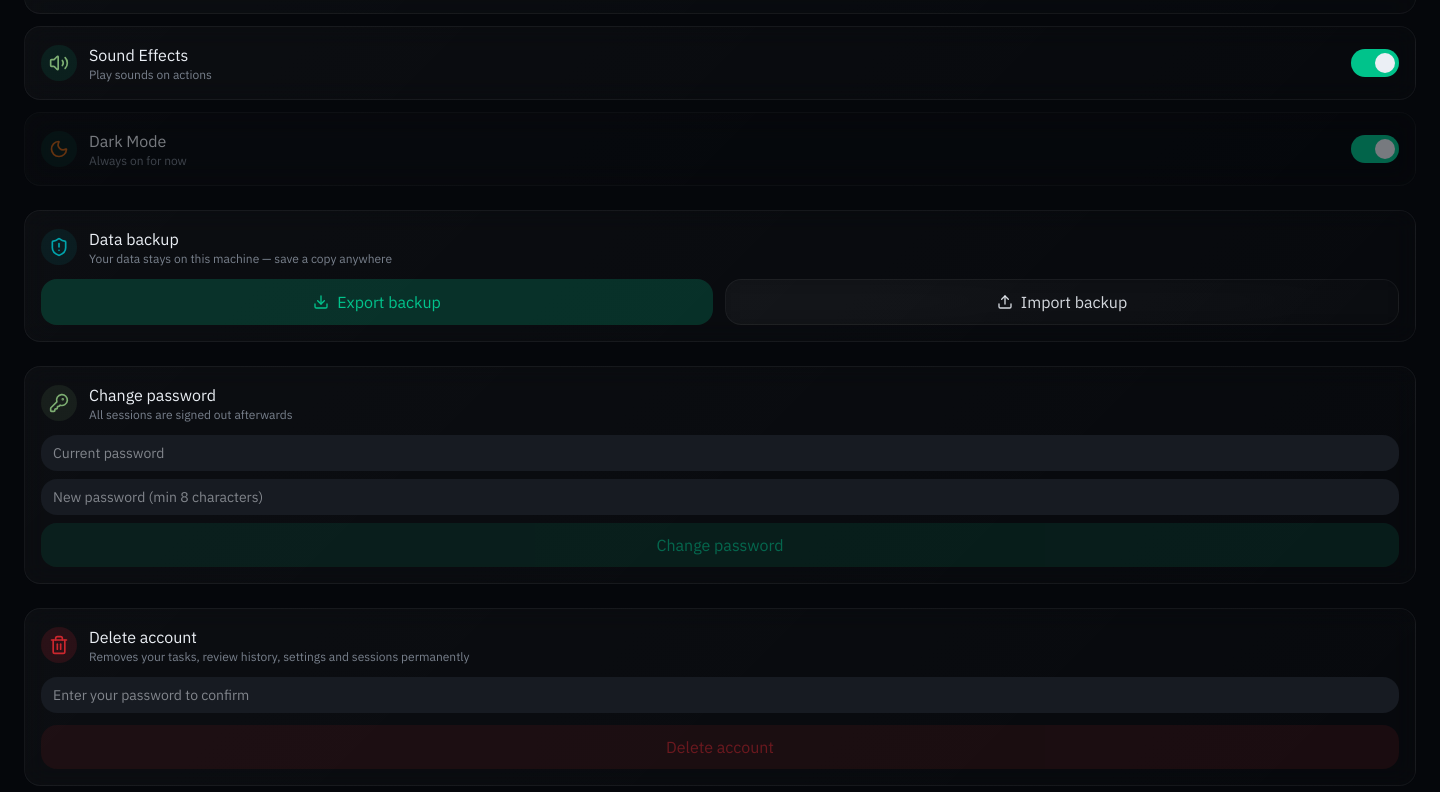
SettingsPanel › rejects too-short new passwords without calling the API
(page scrolled)
Type "old-password" into the password field with placeholder "Current password" at (720, 453), box [41, 435, 1399, 471]
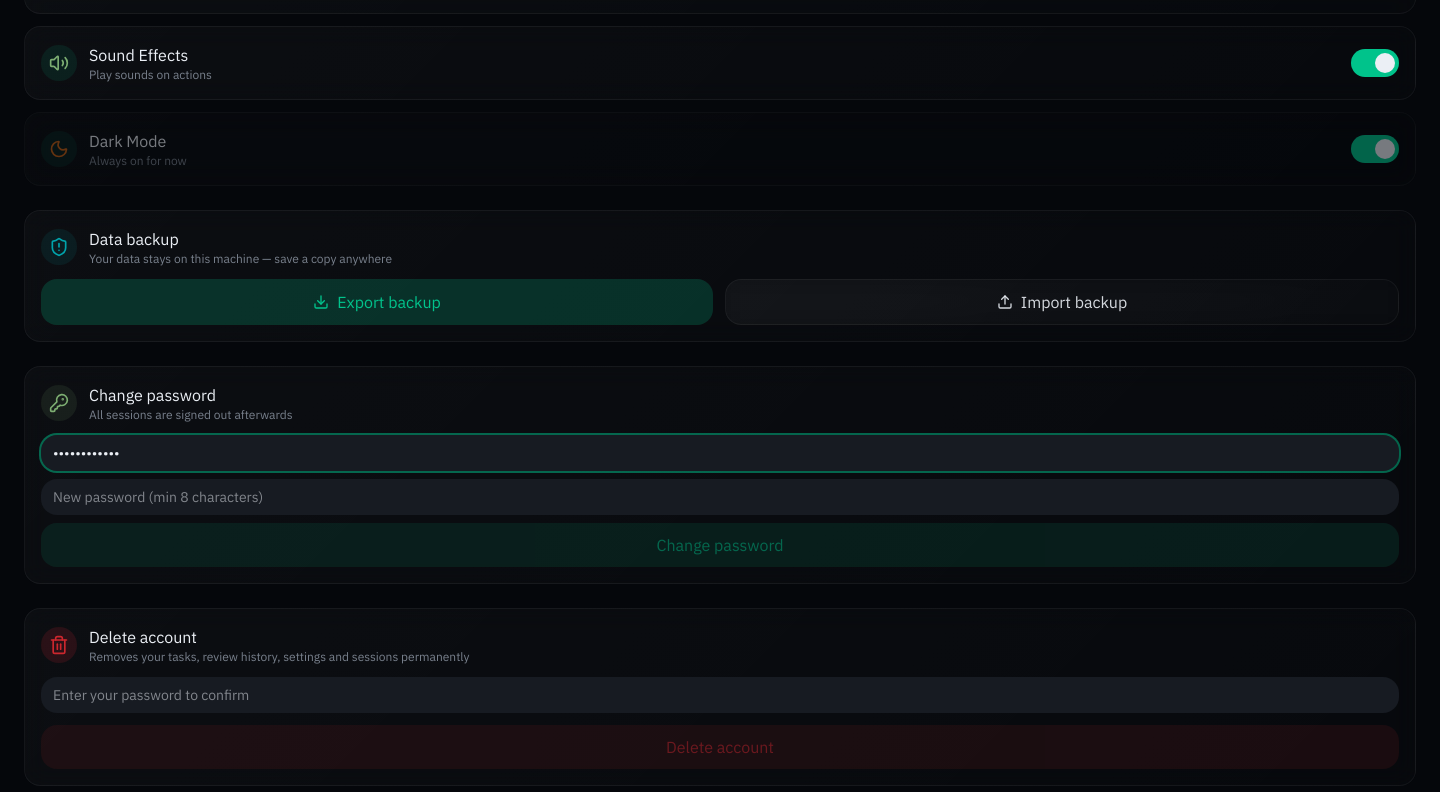
Type "short" into the password field with placeholder "New password (min 8 characters)" at (720, 497), box [41, 479, 1399, 515]
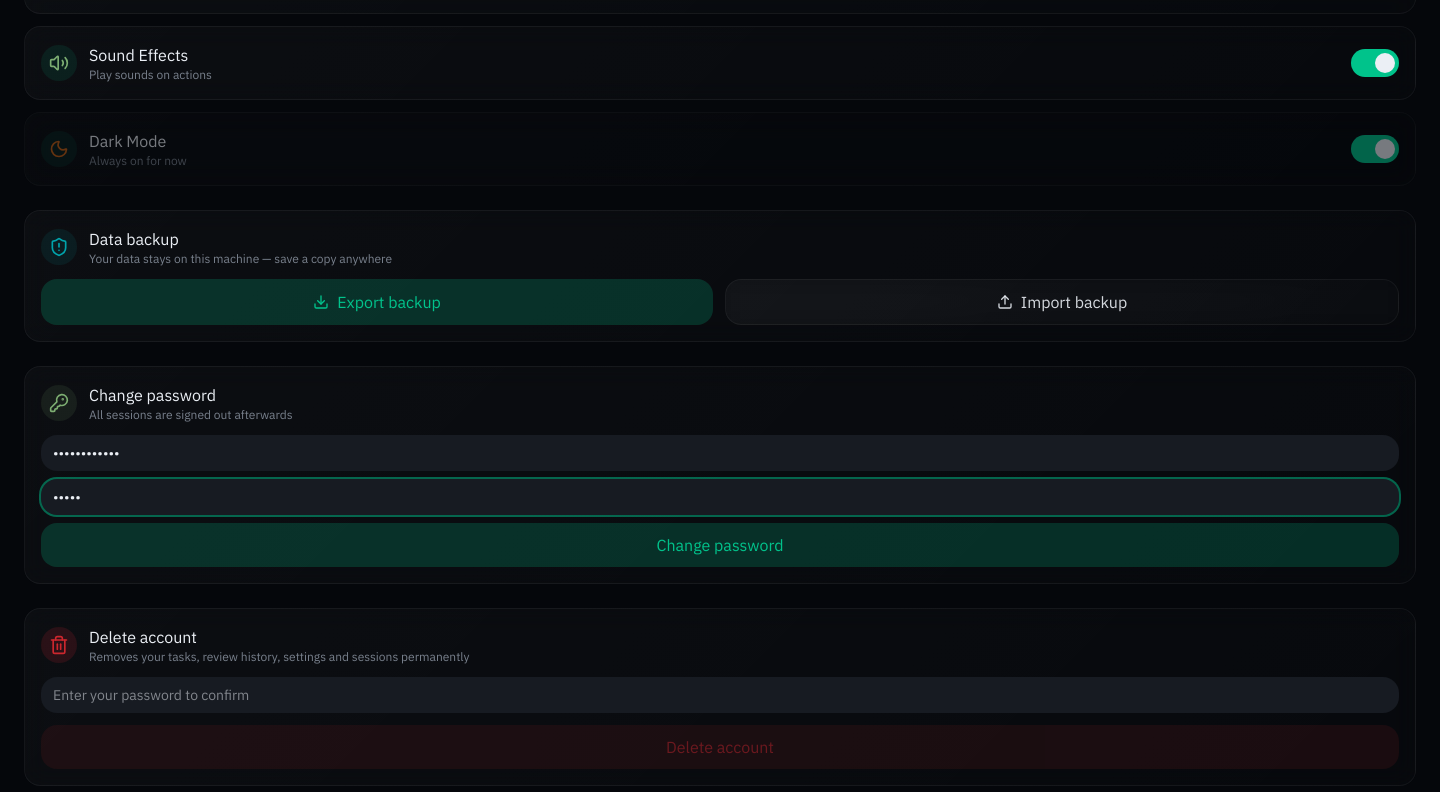
Click the button "Change password" at (720, 545), box [41, 523, 1399, 567]
(page scrolled)
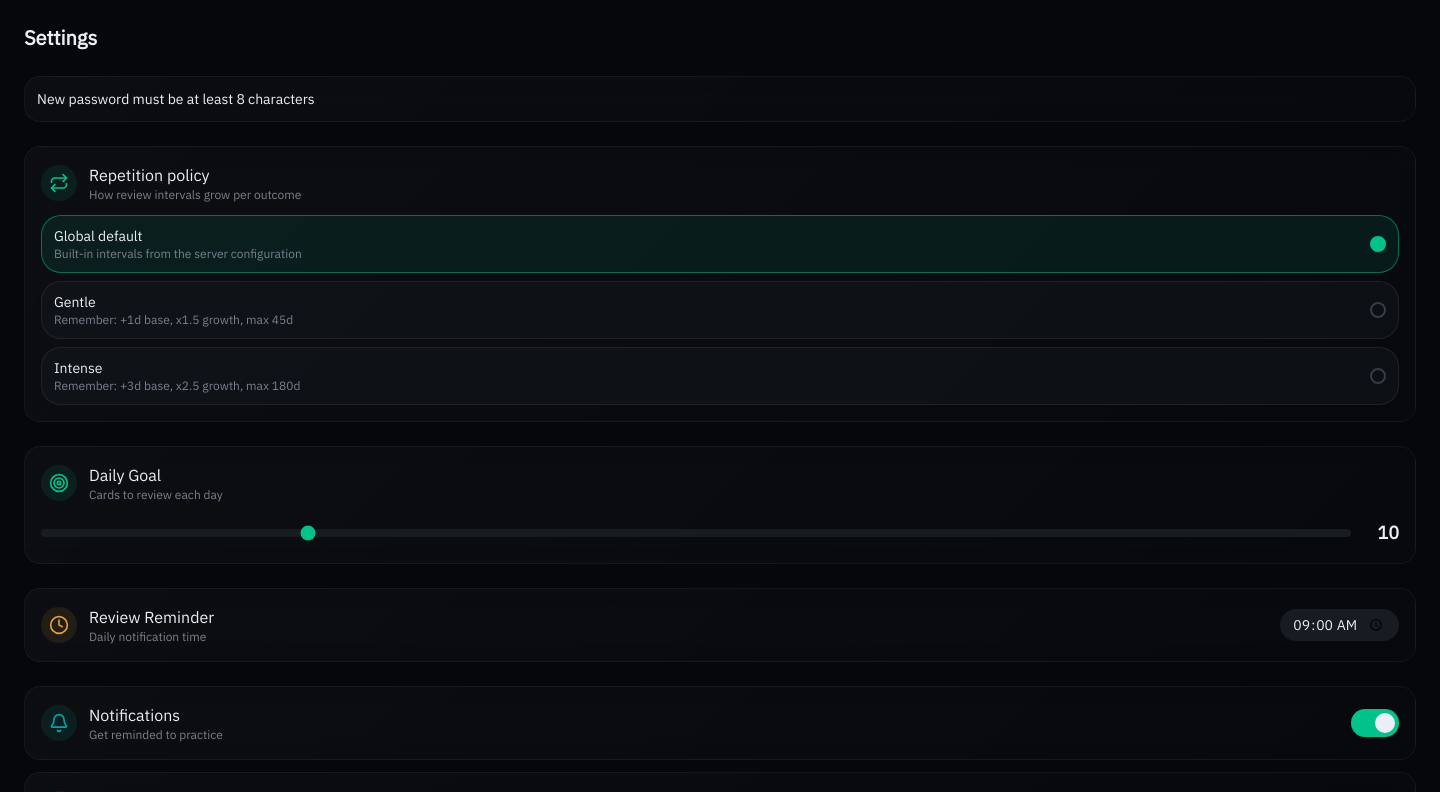
Now the text "New password must be at least 8 characters" is shown, box [24, 76, 1416, 122]
